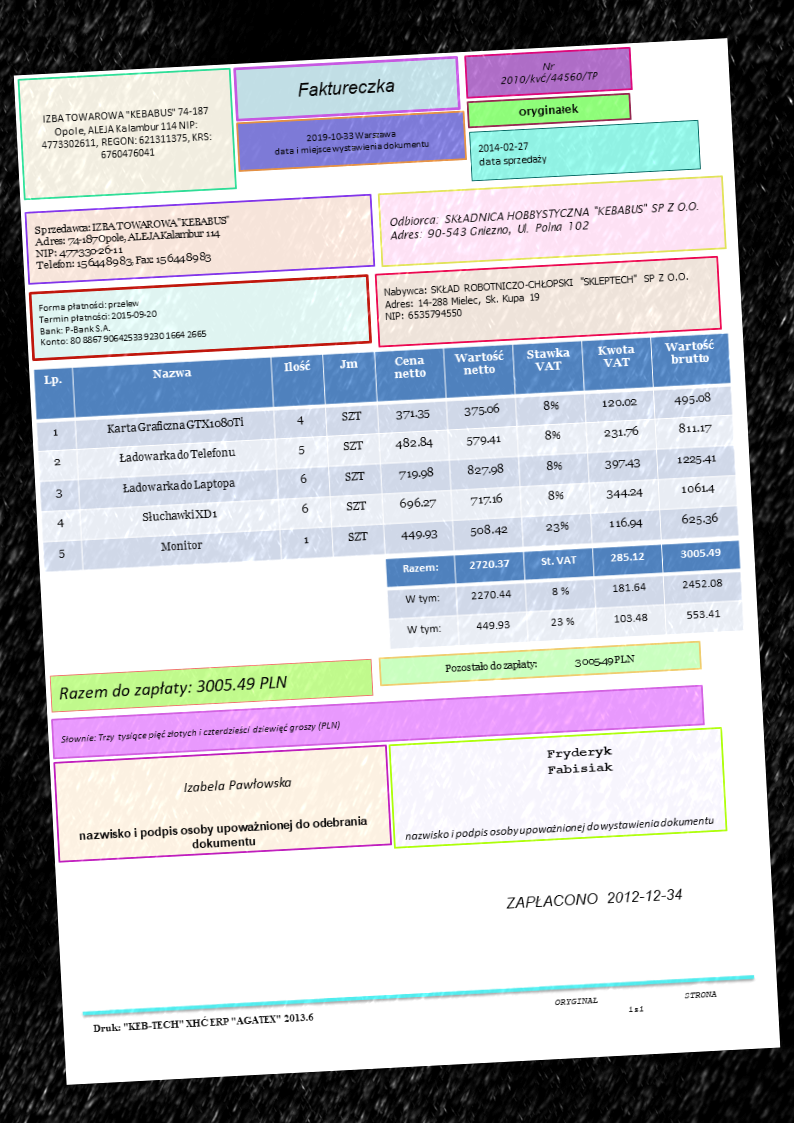Table: (32, 332, 740, 574), (383, 538, 746, 650)
TextBox: (382, 269, 692, 323), (385, 198, 702, 243), (31, 211, 234, 274), (77, 814, 369, 857), (37, 102, 214, 164), (402, 811, 716, 844), (35, 293, 207, 347), (59, 719, 343, 746), (56, 671, 290, 702), (89, 1010, 317, 1037), (271, 126, 432, 159), (503, 885, 686, 913), (553, 988, 719, 1018), (442, 651, 637, 676), (497, 57, 601, 90), (544, 743, 617, 777), (296, 75, 396, 99), (476, 139, 548, 171), (181, 775, 294, 795), (515, 101, 581, 120)
